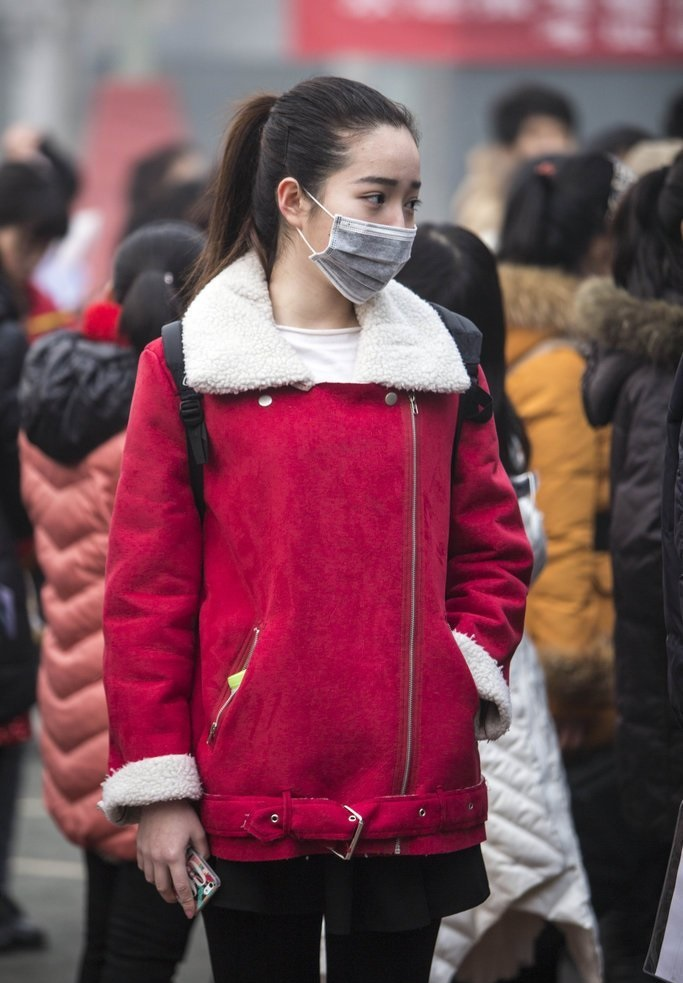face_mask: (311, 128, 421, 303)
